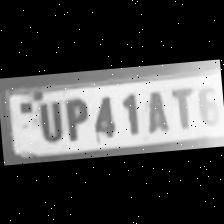1: (115, 87, 143, 136)
4: (86, 90, 118, 140)
6: (193, 80, 222, 127)
A: (139, 84, 171, 134)
P: (60, 94, 92, 140)
T: (166, 84, 198, 130)
U: (32, 96, 66, 141)
